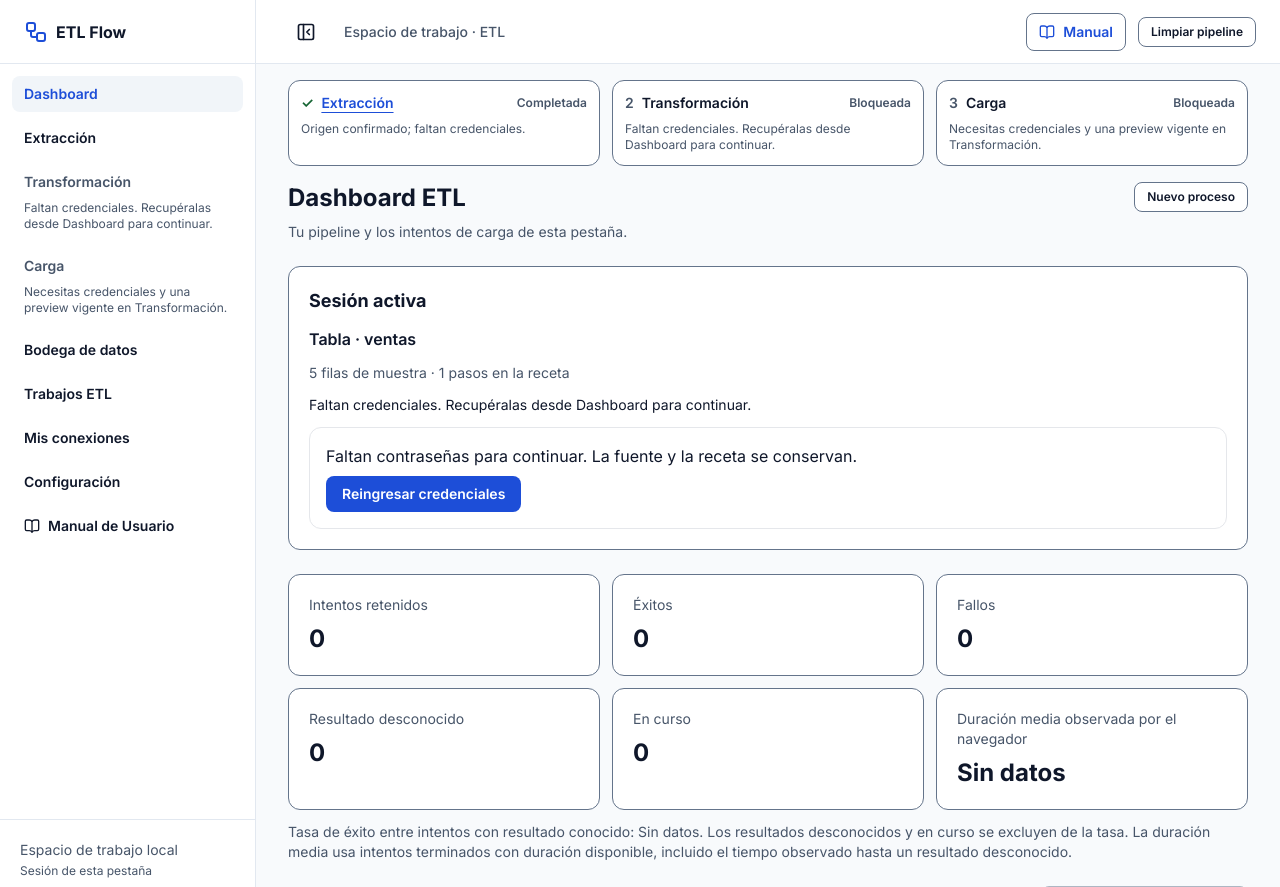
it: history metrics and presentation › dashboard recovers missing source credentials without discarding the recipe or requesting a preview
The width and height of the screenshot is (1280, 887).
Expected: the link "Continuar en Transformación" is not shown
Click the button "Reingresar credenciales".
click(424, 494)  # box [326,476,521,512]
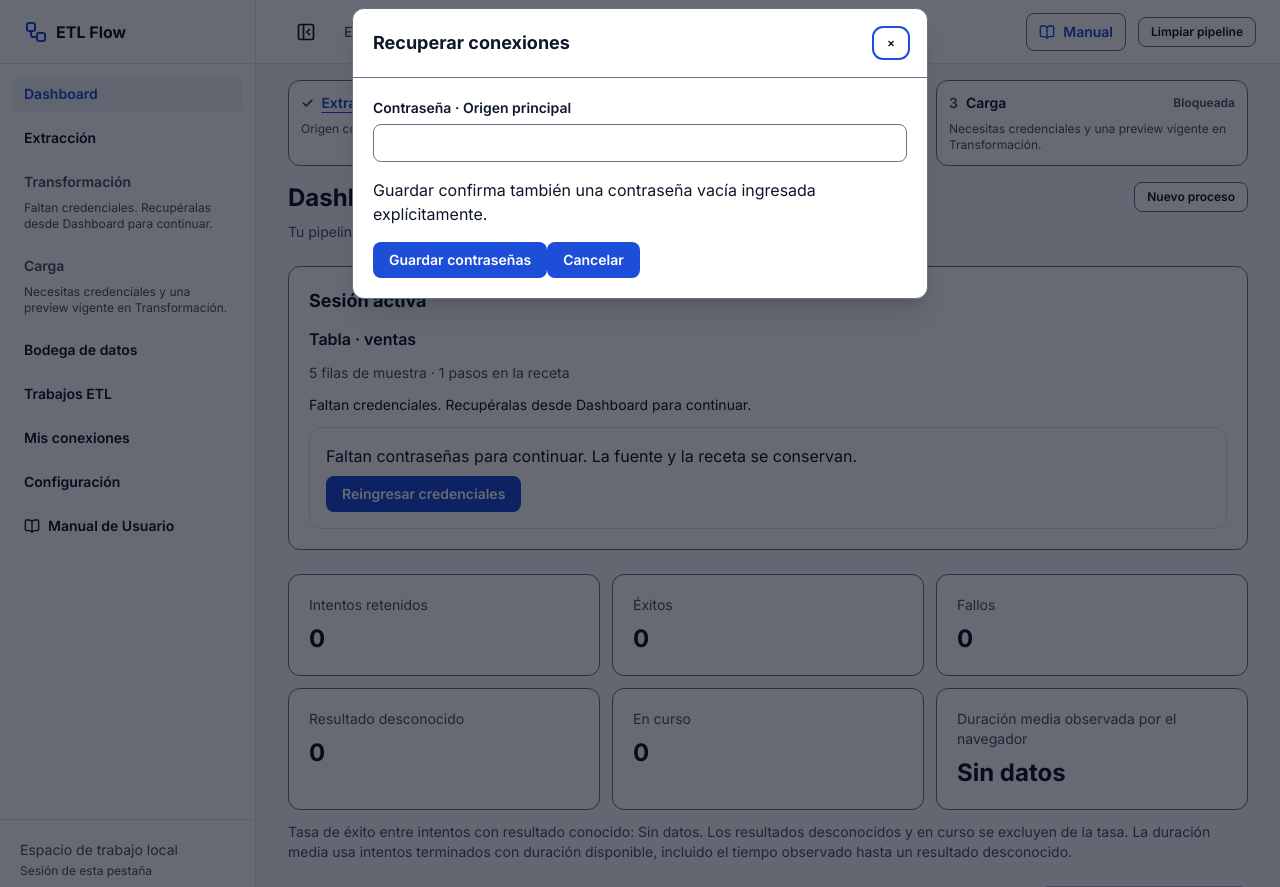
Type "only-in-memory" into the password field labelled "Contraseña · Origen principal".
click(640, 143); type("only-in-memory")  # box [373,124,907,162]
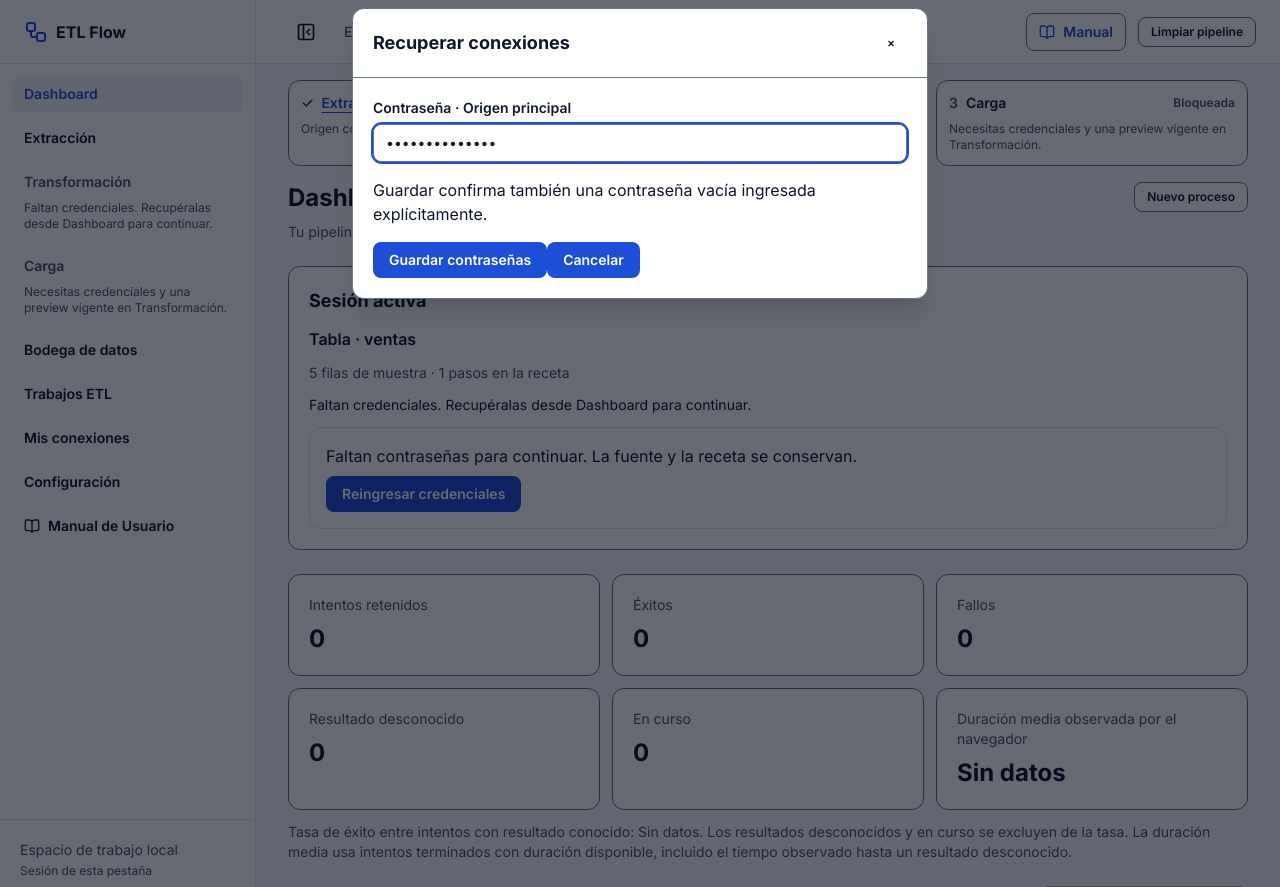
Click the button "Guardar contraseñas".
click(460, 260)  # box [373,242,547,278]
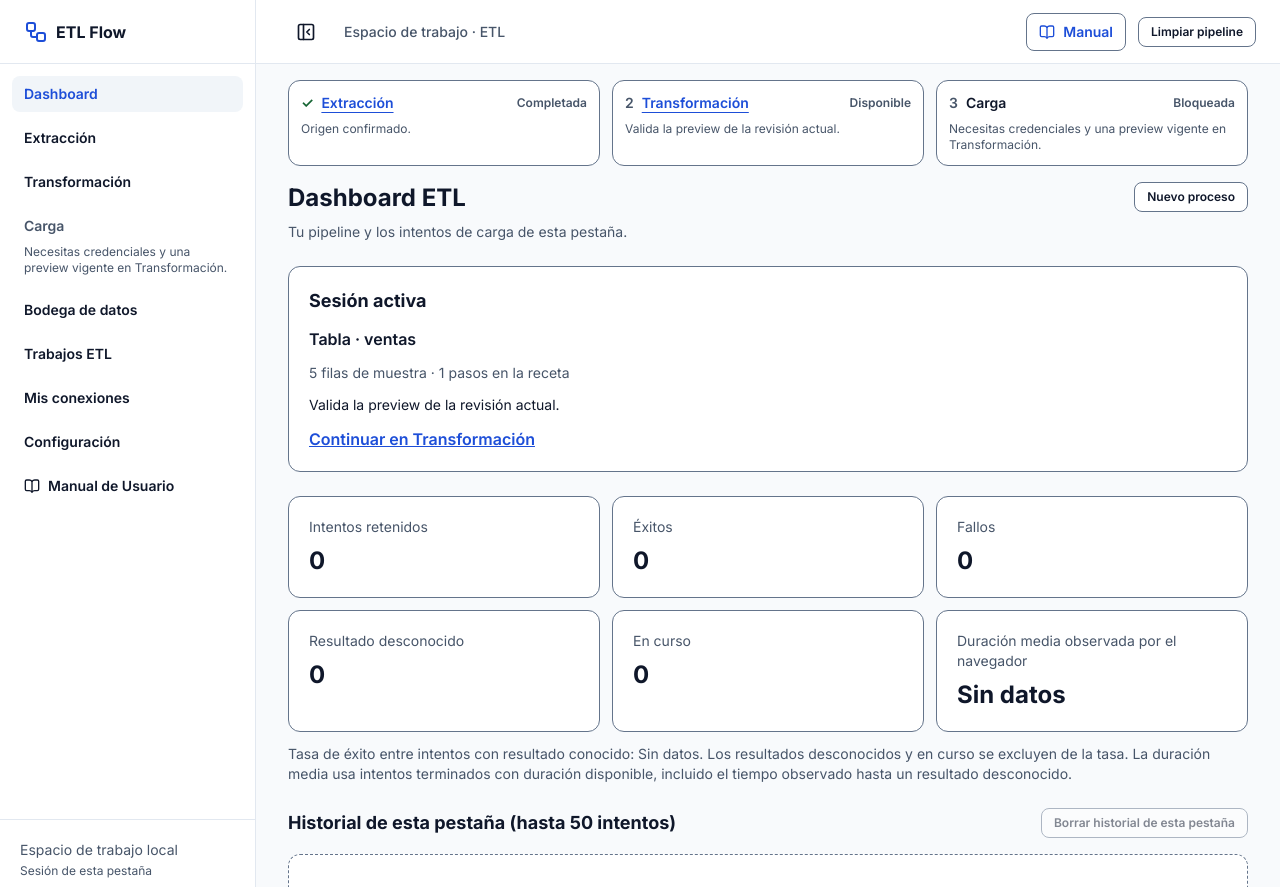
Result: the link "Continuar en Transformación" is shown at [309,427,535,451]
